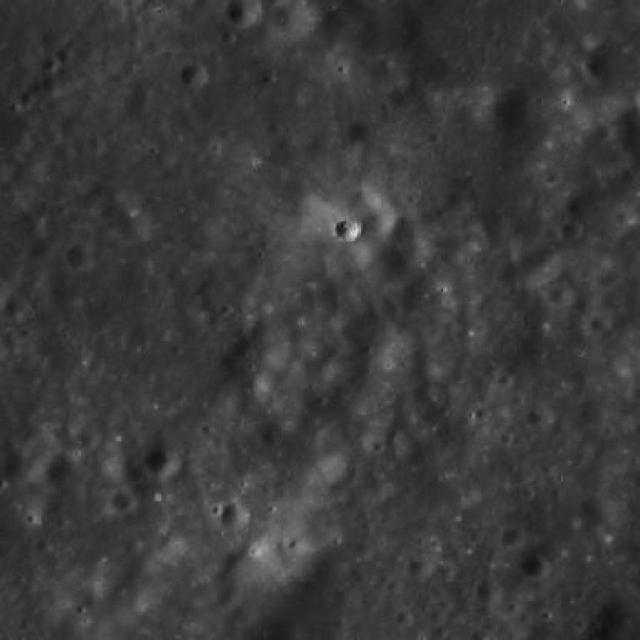crater: (210, 313, 292, 389), (568, 182, 634, 245), (304, 124, 358, 174), (374, 237, 426, 286), (358, 111, 409, 160), (508, 248, 557, 294), (101, 196, 150, 242), (274, 0, 314, 37), (578, 497, 618, 534), (48, 453, 88, 490), (142, 438, 181, 474), (358, 204, 396, 238), (334, 240, 369, 274), (414, 96, 449, 129), (260, 416, 292, 444), (226, 0, 260, 26), (26, 238, 56, 267), (16, 210, 46, 238), (350, 188, 379, 216), (220, 502, 249, 530), (368, 60, 398, 86), (182, 61, 210, 87), (347, 118, 375, 144), (522, 554, 550, 580), (475, 578, 503, 604), (573, 288, 601, 314), (127, 88, 153, 114), (67, 244, 93, 270), (333, 218, 359, 244), (4, 295, 30, 320), (348, 563, 374, 588), (406, 554, 432, 578), (152, 148, 177, 172), (526, 406, 552, 429), (42, 26, 67, 49), (550, 284, 573, 307), (111, 490, 135, 512), (593, 122, 616, 144), (560, 220, 582, 242), (502, 526, 524, 548), (218, 586, 239, 608), (76, 430, 96, 450), (38, 77, 58, 96), (591, 313, 611, 332), (288, 535, 308, 554), (85, 135, 104, 154), (39, 54, 59, 72), (436, 562, 456, 580), (352, 540, 372, 558), (18, 90, 36, 108), (394, 611, 412, 627), (616, 209, 632, 226), (266, 122, 283, 138)
